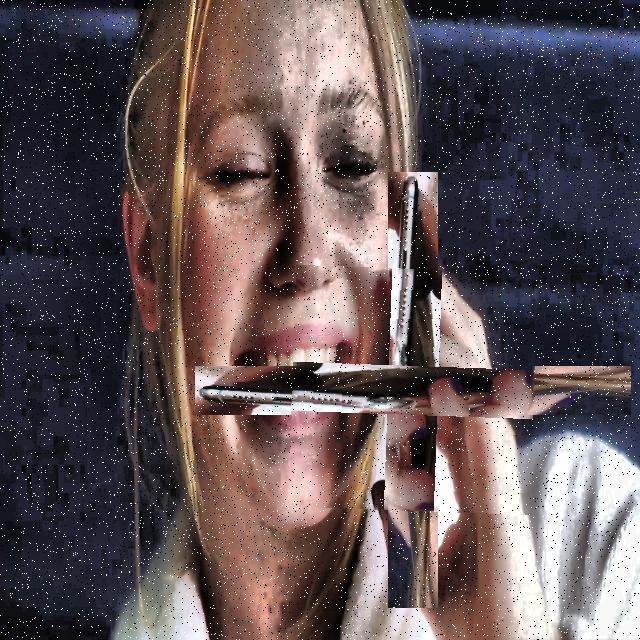Phone: (290, 267, 536, 513)
